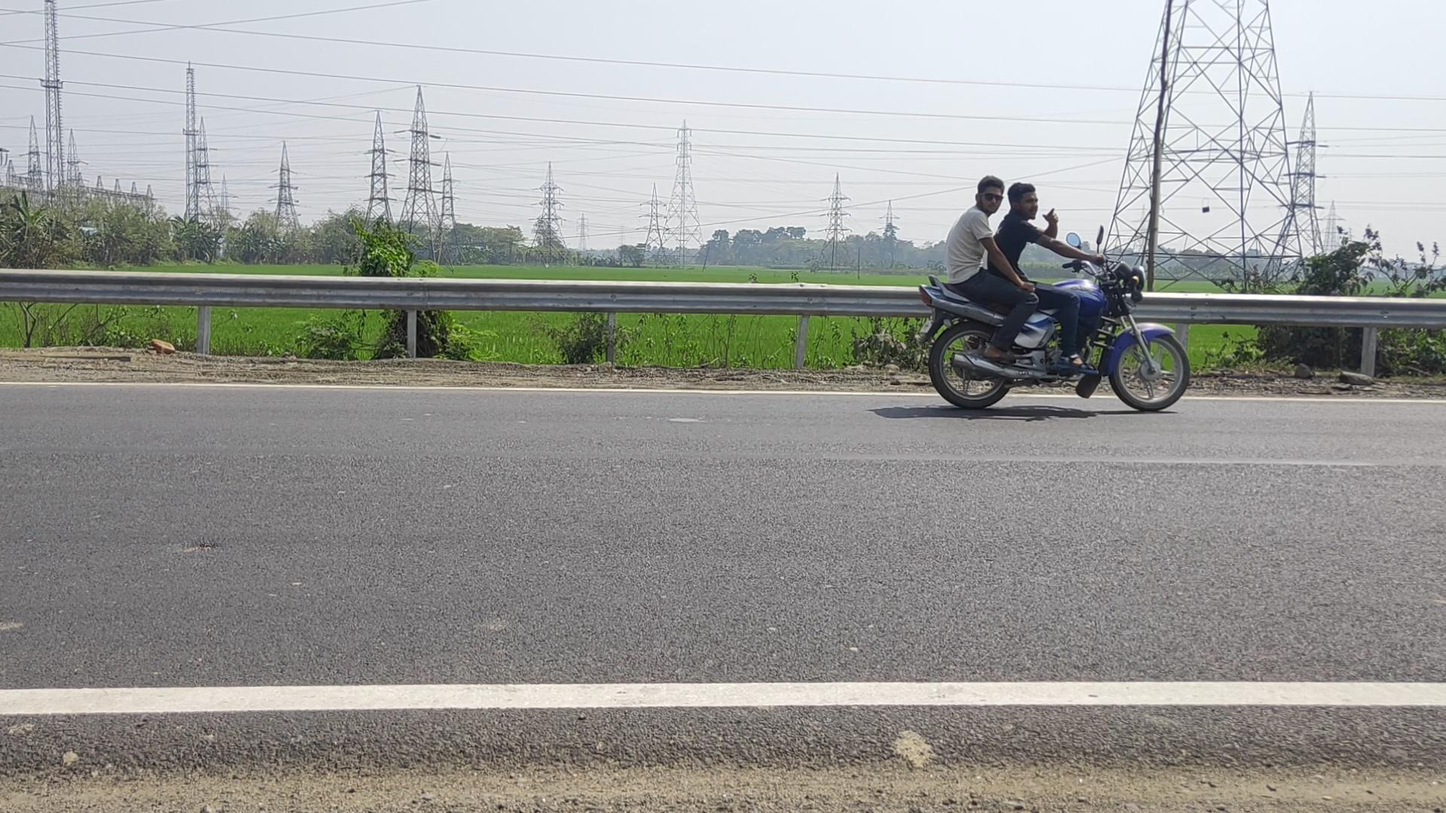bike: (917, 173, 1191, 413)
